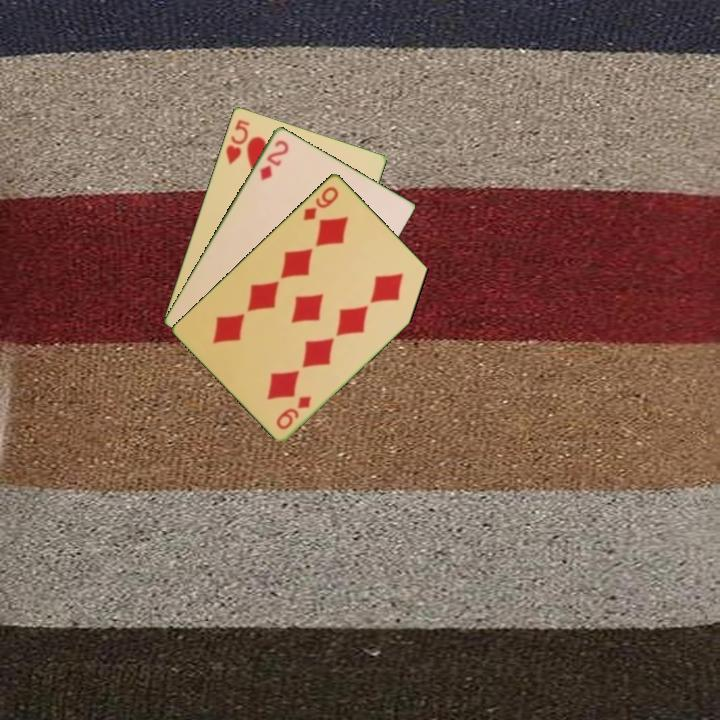2d: (256, 136, 292, 183)
5h: (222, 116, 252, 167)
9d: (300, 183, 341, 223), (273, 392, 314, 432)
